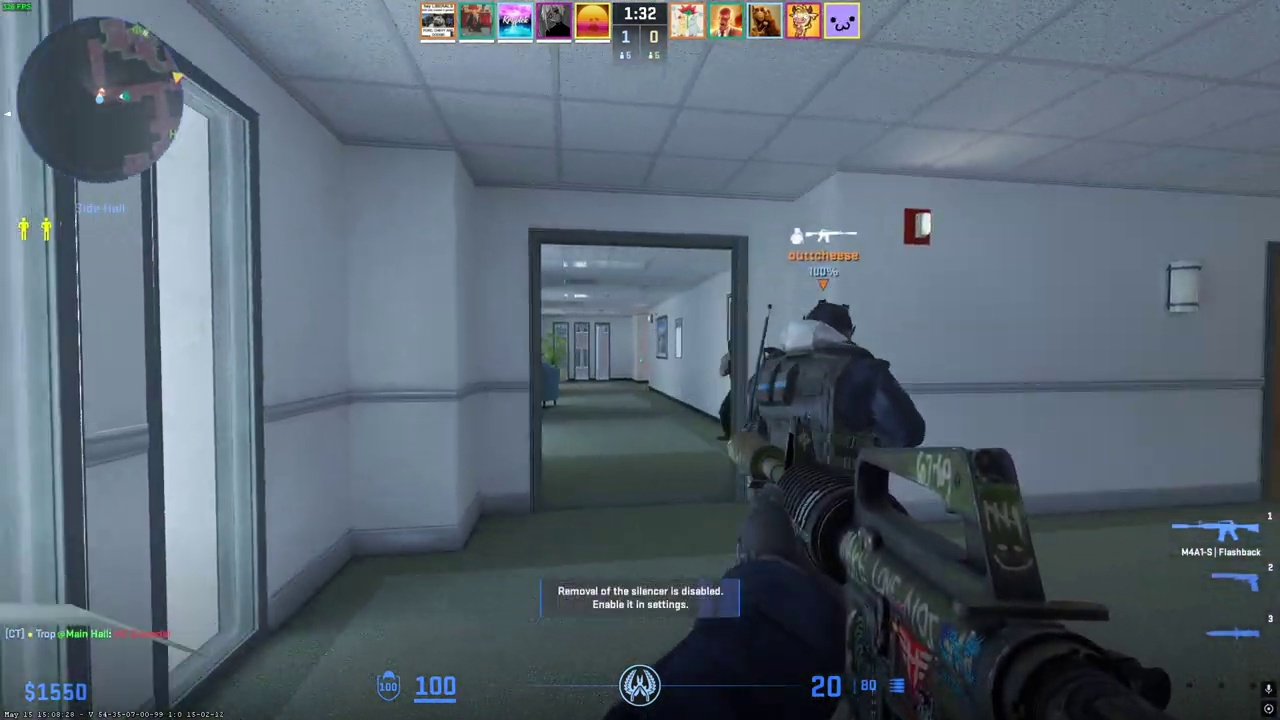CT: (746, 300, 916, 480)
Terrorist: (718, 340, 732, 441)
